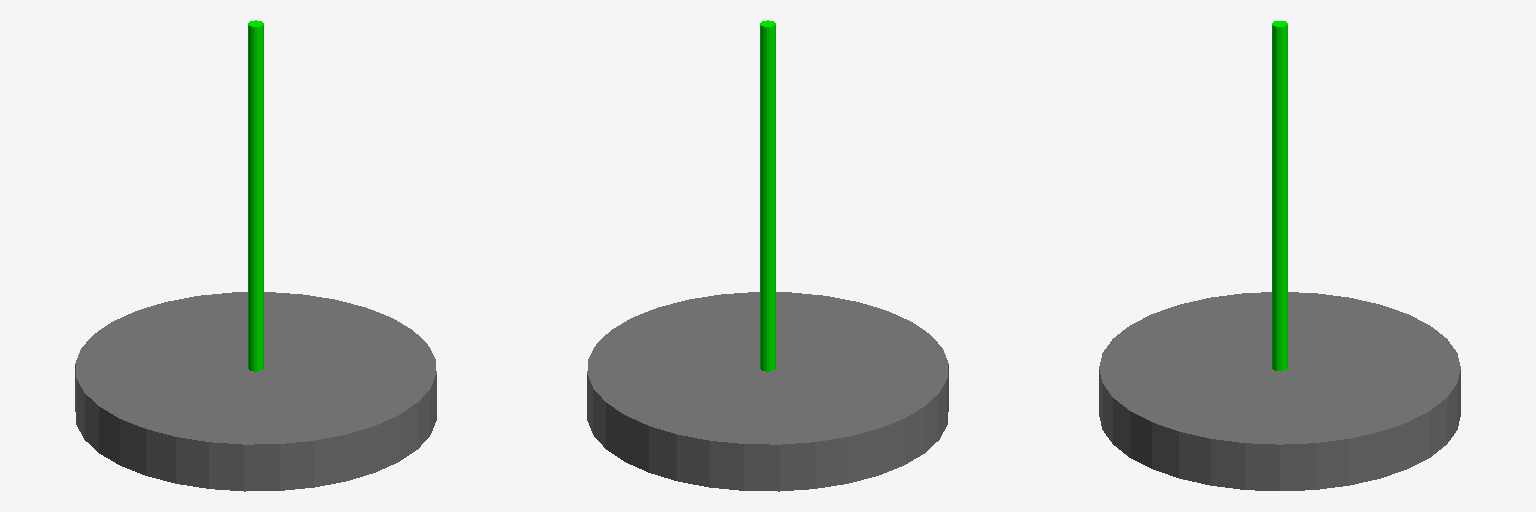
robot.urdf — pole_with_base:
<?xml version="1.0"?>
<robot name="pole_with_base">

  <link name="base">
    <visual>
      <origin xyz="0 0 0" rpy="0 0 0"/>
      <geometry>
        <cylinder radius="0.07" length="0.02"/>
      </geometry>
      <material name="grey">
        <color rgba="0.5 0.5 0.5 1"/>
      </material>
    </visual>
    <collision>
      <origin xyz="0 0 0" rpy="0 0 0"/>
      <geometry>
        <cylinder radius="0.07" length="0.02"/>
      </geometry>
    </collision>
  </link>

  <link name="rod">
    <visual>
      <origin xyz="0 0 .0665" rpy="0 0 0"/>
      <geometry>
        <cylinder radius="0.003" length=".15"/>
      </geometry>
      <material name="red">
        <color rgba="0 1 0 1"/>
      </material>
    </visual>
    <collision>
      <origin xyz="0 0 0.0665" rpy="0 0 0"/>
      <geometry>
        <cylinder radius="0.003" length=".15"/>
      </geometry>
    </collision>
  </link>

  <!-- Define joint: fixed joint to connect base and rod -->
  <joint name="fixed_joint" type="fixed">
    <parent link="base"/>
    <child link="rod"/>
    <origin xyz="0 0 0.0155" rpy="0 0 0"/>
  </joint>

</robot>

--- Facts derived from the render (not from the file) ---
Views: 3 orthographic renders of the robot side by side, from view 1: azimuth 30°, elevation 25°; view 2: azimuth 150°, elevation 25°; view 3: azimuth 270°, elevation 25°.
Model pole_with_base with 2 links and 1 joints (1 fixed), rooted at base, posed every joint at zero.
Visible links, largest first — view 1: base, rod; view 2: base, rod; view 3: base, rod.
Link boxes in pixels (bbox=[...]): base: bbox=[75, 292, 436, 491]; rod: bbox=[248, 20, 263, 371]; base: bbox=[587, 292, 948, 491]; rod: bbox=[760, 20, 775, 371]; base: bbox=[1099, 292, 1460, 490]; rod: bbox=[1272, 21, 1287, 370].
Bounding box of the posed robot: 0.14 × 0.14 × 0.167 m (x, y, z).
Geometry: primitives only (box / cylinder / sphere), no mesh files.